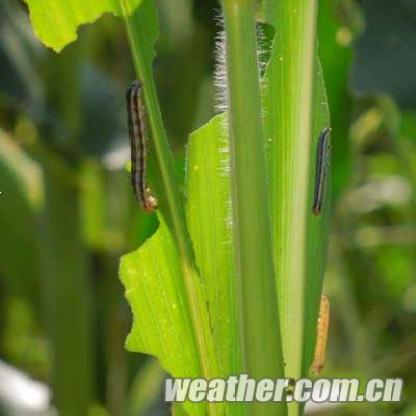armyworm: (117, 73, 169, 216), (312, 122, 337, 222)
